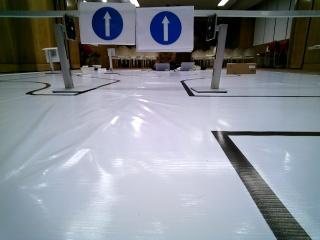straight: (79, 3, 138, 45), (134, 9, 192, 50)
